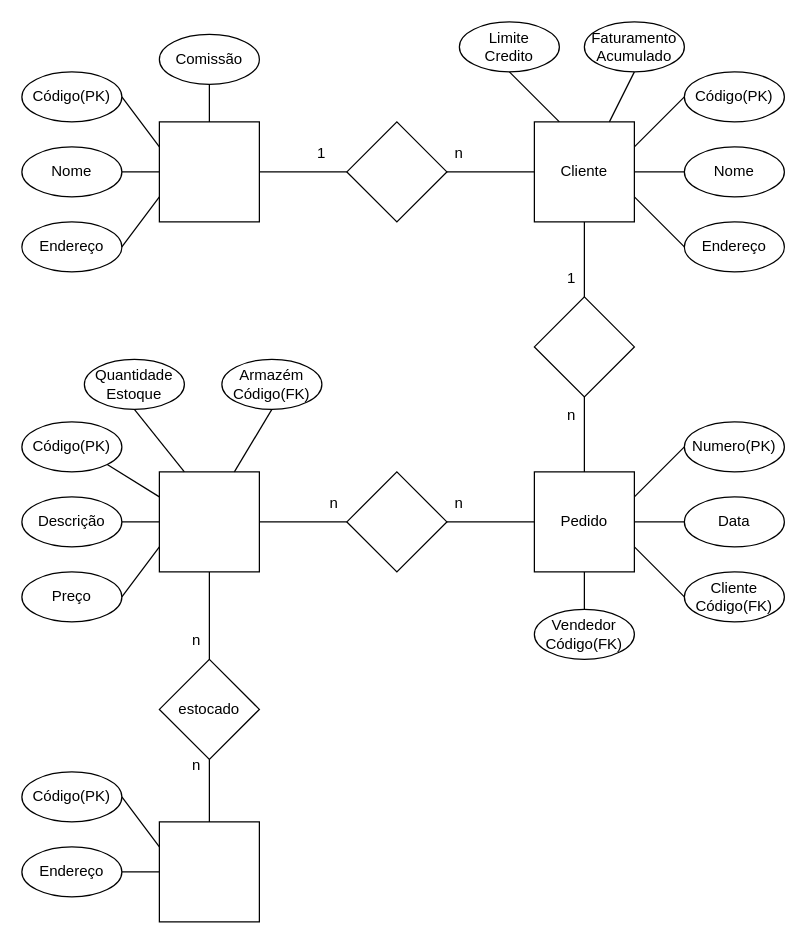
The diagram is 806 pixels wide and 944 high, and some of its shapes have lost their labels. Here are the shapes that lost their labels. From the top down, the centre of each, then its label:
At (x=208, y=171): "Vendedor".
At (x=396, y=171): "atende".
At (x=583, y=346): "faz".
At (x=208, y=521): "ItemPedido".
At (x=396, y=521): "processa".
At (x=208, y=871): "Armazém".
